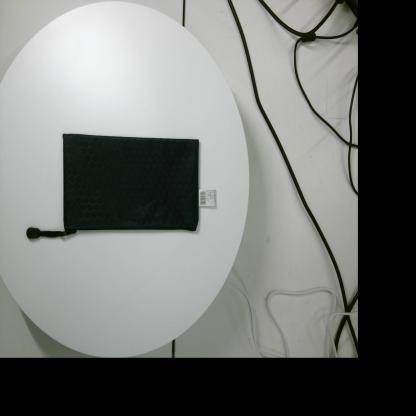Stationery: (26, 134, 217, 238)
